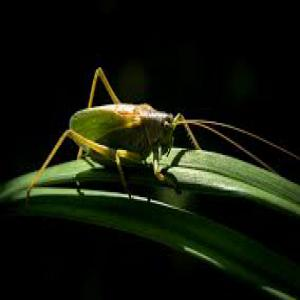locust: (40, 67, 227, 210)
